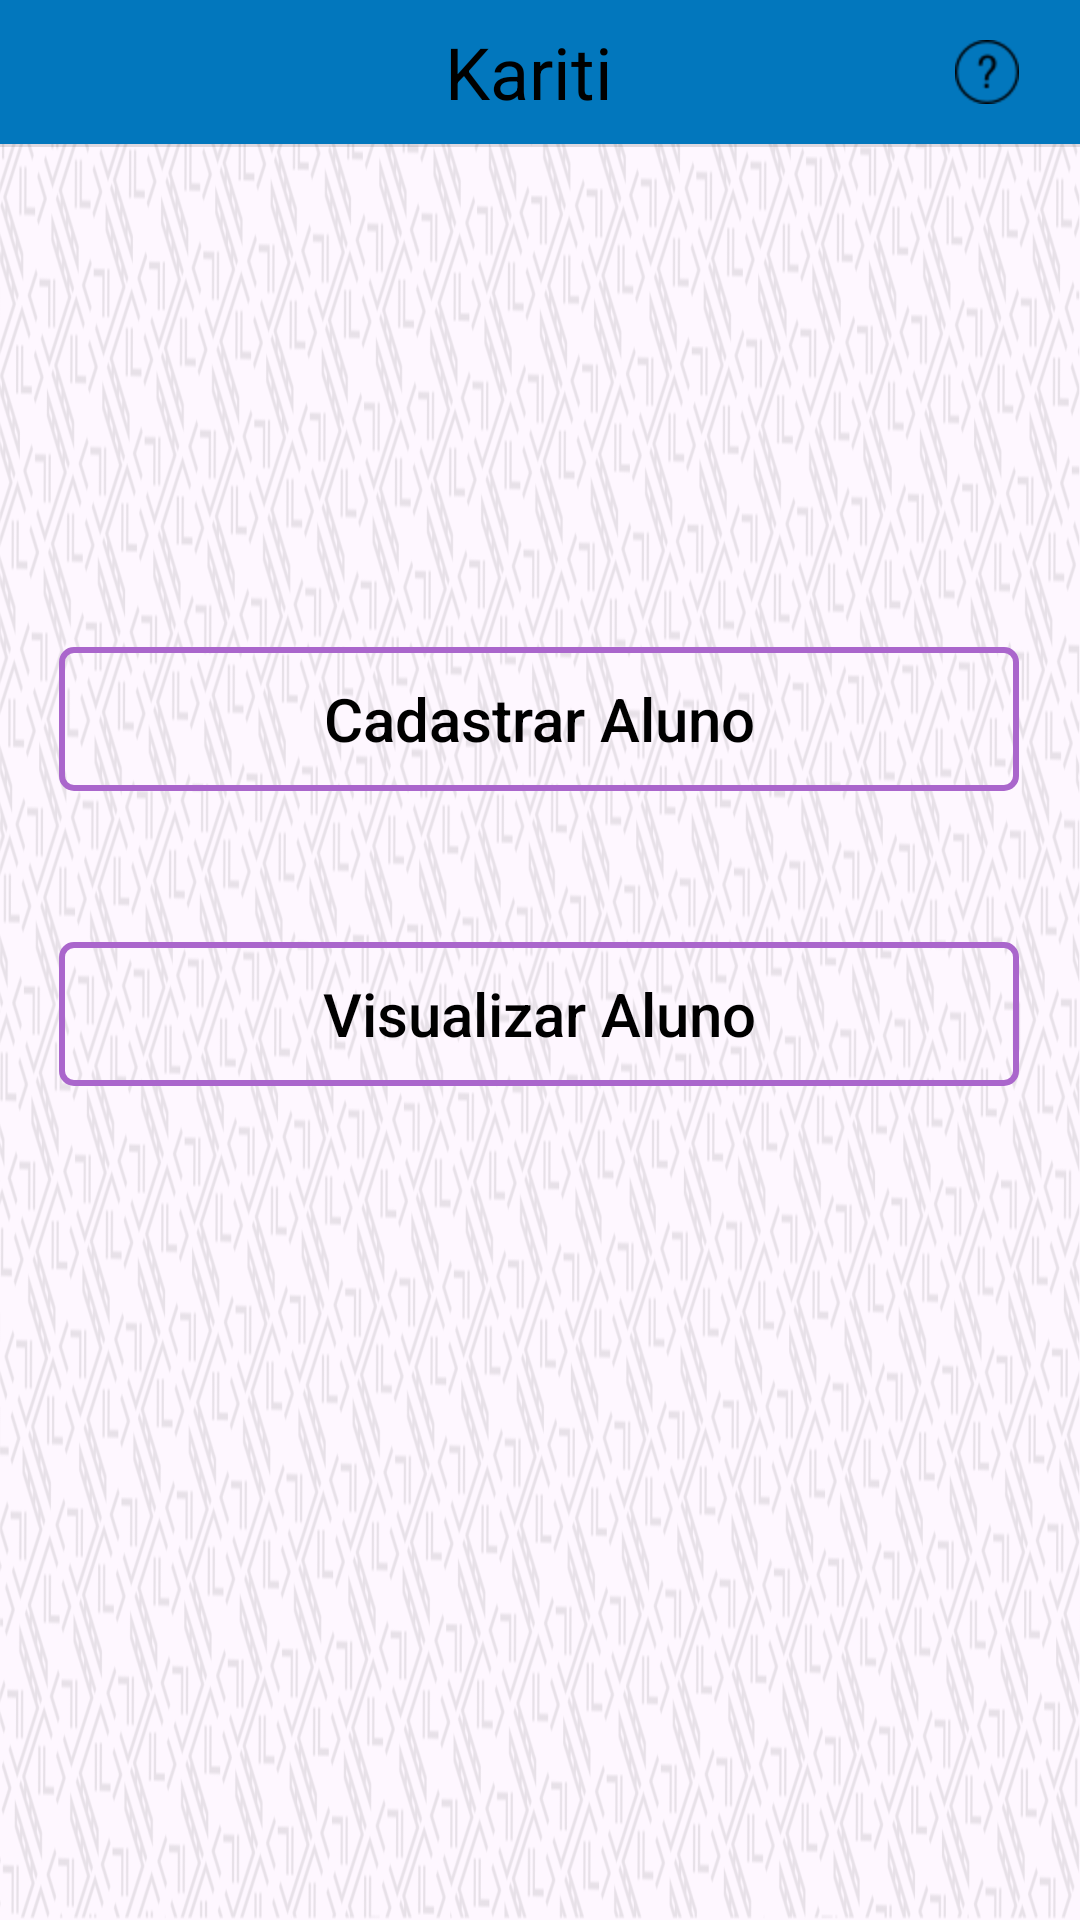

Named icons in this screenshot (1080 x 1920) and their bounding boxes, (x1, y1, x2, y2):
Ajuda: (955, 40, 1019, 104)
